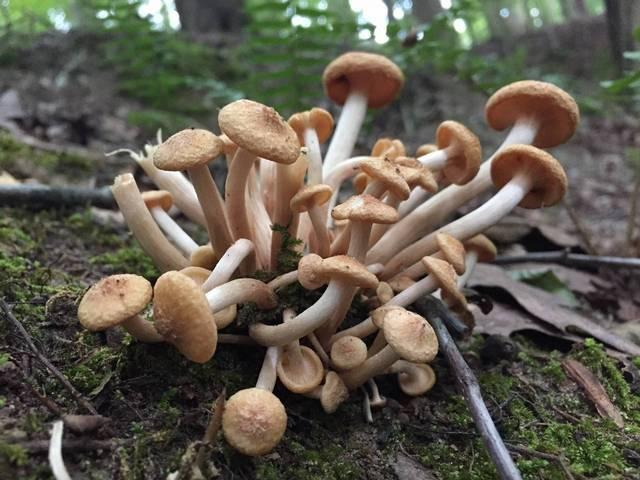edible_mushroom: (76, 50, 580, 452)
